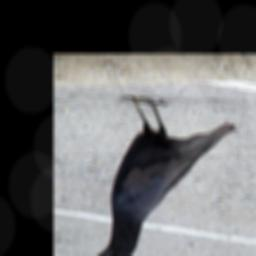Crow: (93, 96, 236, 256)
